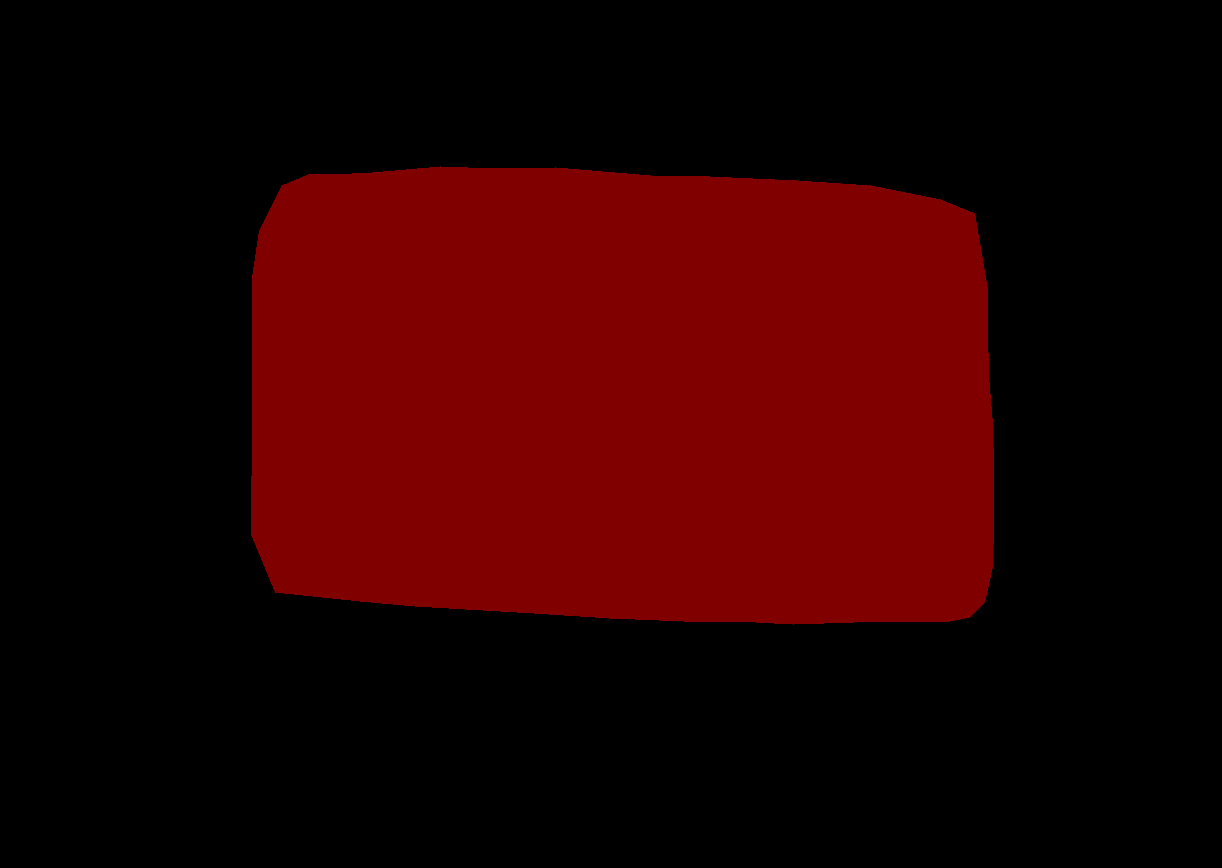sign: (251, 166, 993, 624)
